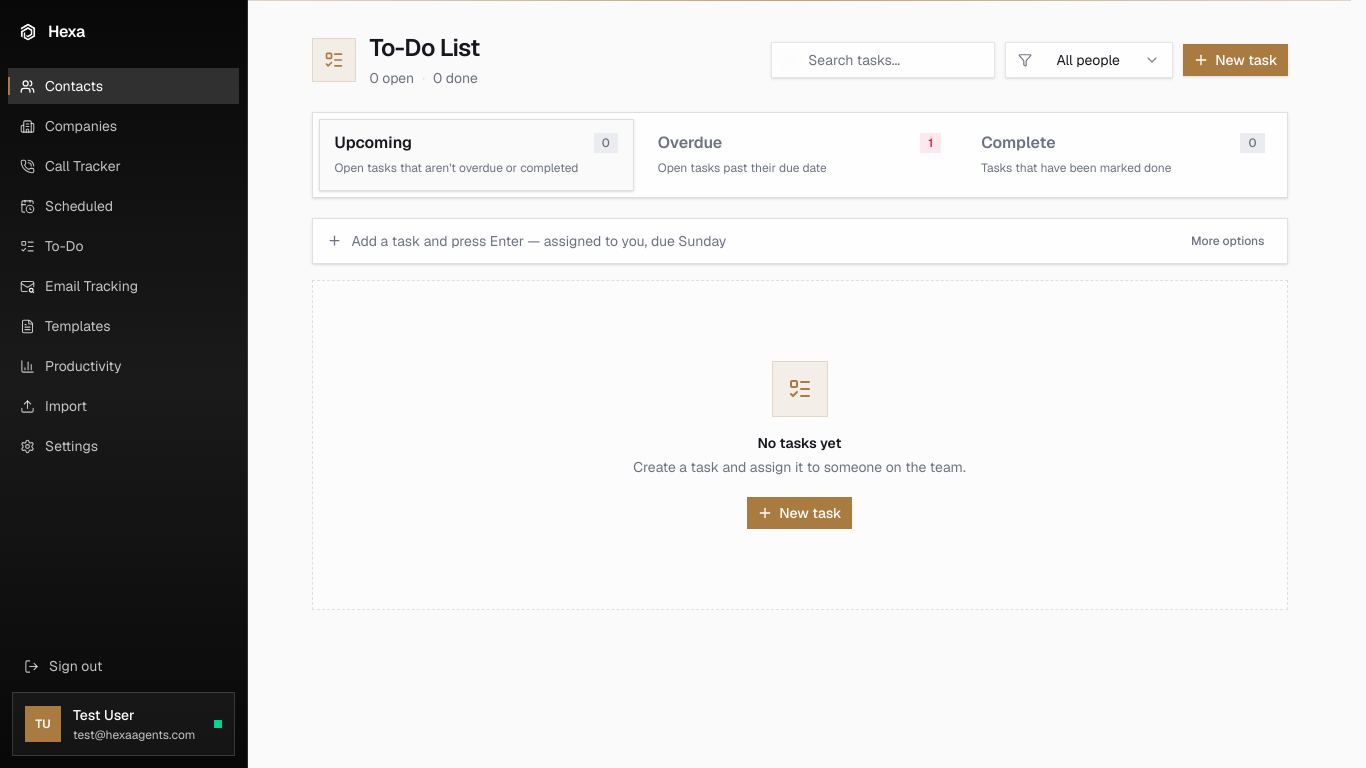
Test: TodoListPage › highlights overdue (not done) rows
What coordinates should you click on to do the following:
click the button "Overdue 1 Open tasks past their due date"
I would click on:
 (690, 142)
Its box is [642, 119, 957, 190].
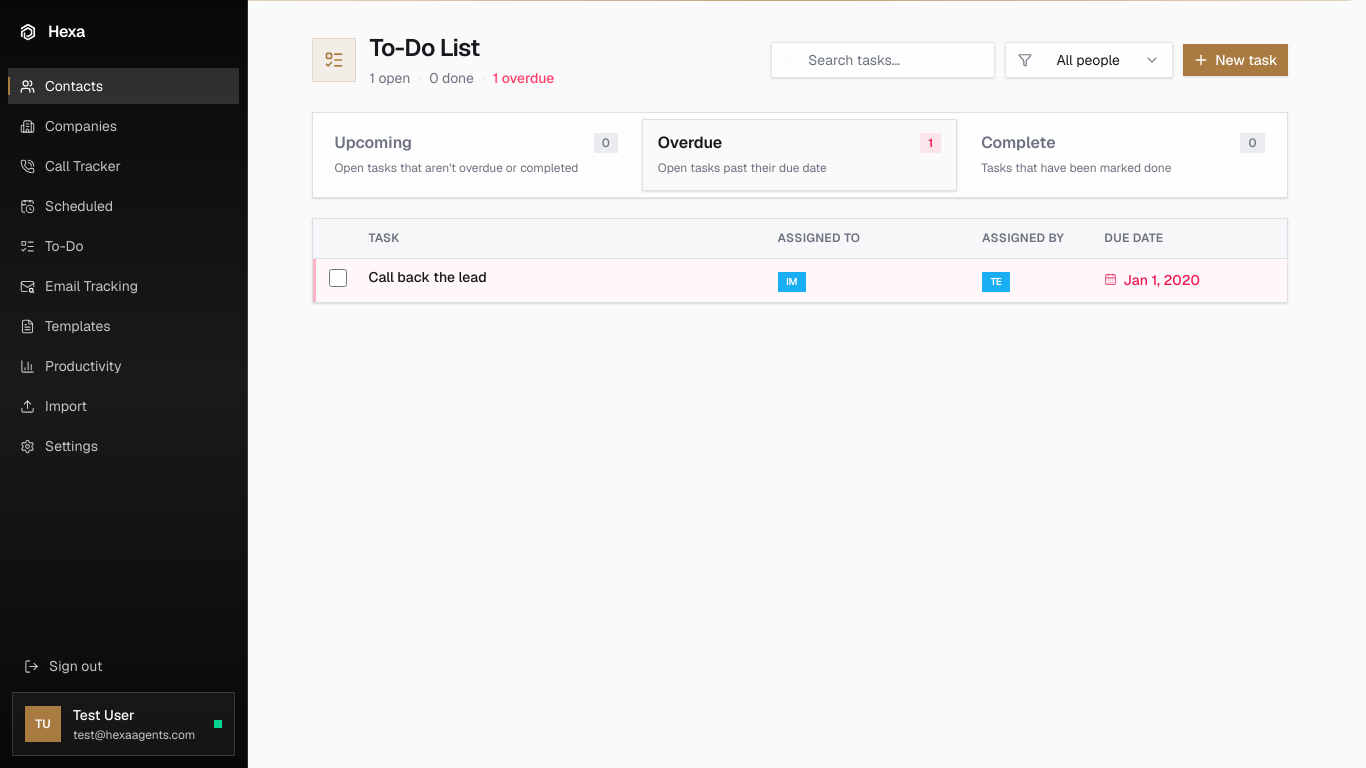
Check: the link "Call back the lead IM TE Jan 1, 2020" is shown, box [312, 258, 1286, 302]
